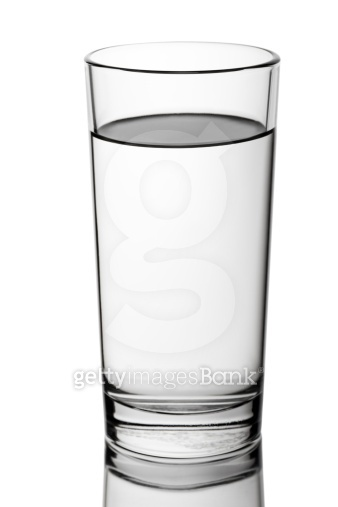glass of water: (81, 31, 282, 492)
